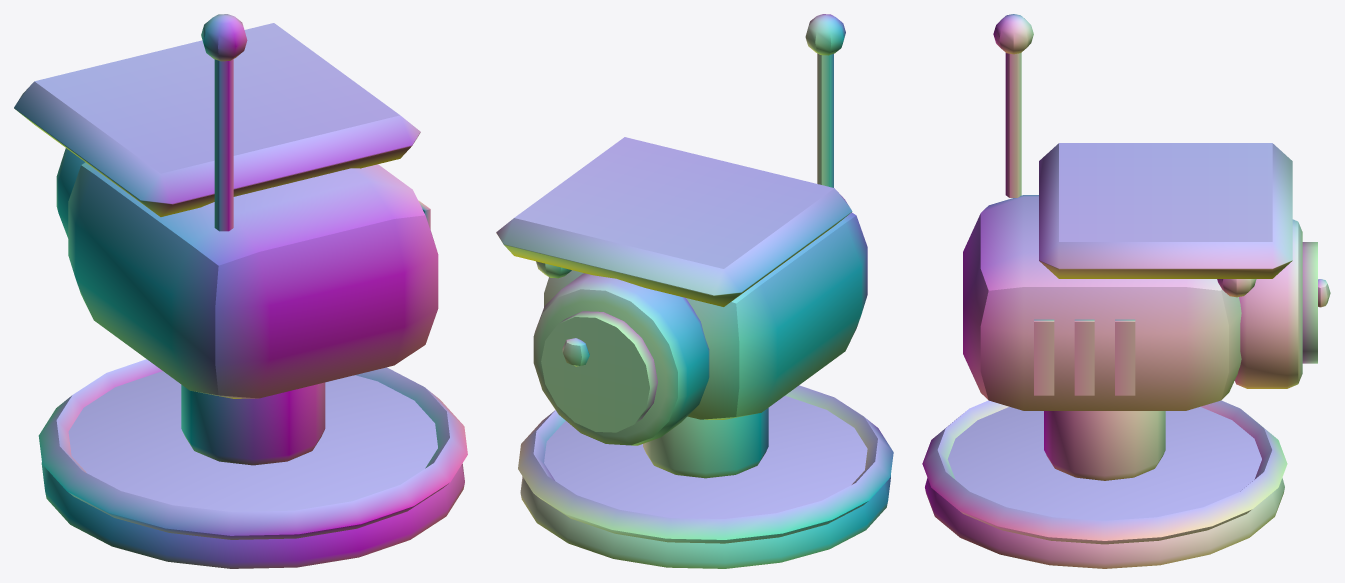
File: gad_cam.glb
3 renders of one model, left to right at view 1: azimuth 30°, elevation 25°; view 2: azimuth 150°, elevation 25°; view 3: azimuth 270°, elevation 25°, orthographic. The views are drawn at different scales.
Parts seen in each view (by area): view 1: cam; view 2: cam; view 3: cam.
Boxes of the visible parts, box(x1,y1,x2,y2) form: cam: box(14, 14, 467, 568); cam: box(496, 14, 893, 568); cam: box(922, 14, 1330, 568).
Size of the model in its own units: 0.072 by 0.097 by 0.0805.
